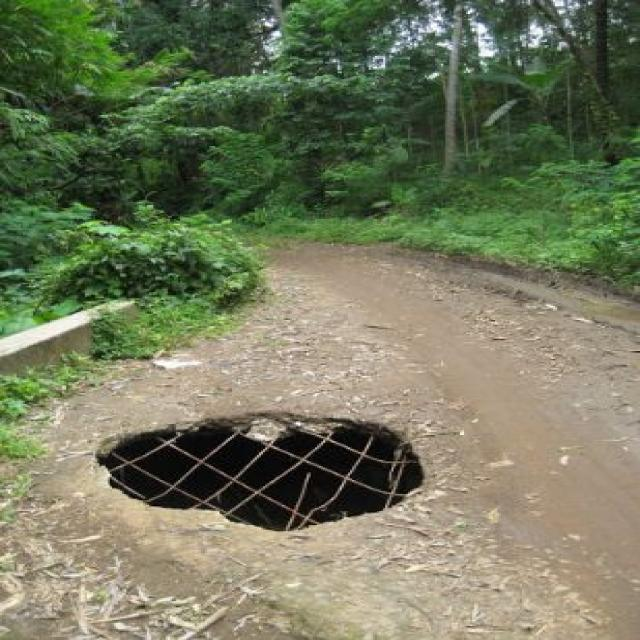pothole: (83, 402, 429, 534)
